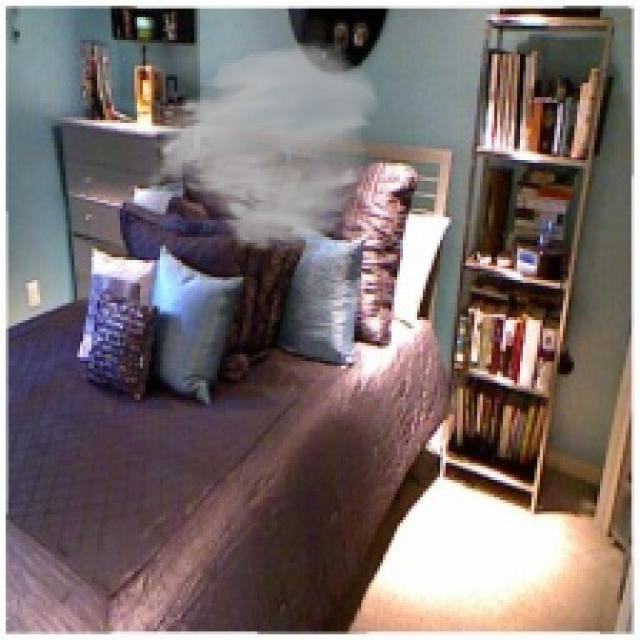Smoke: (143, 40, 383, 254)
